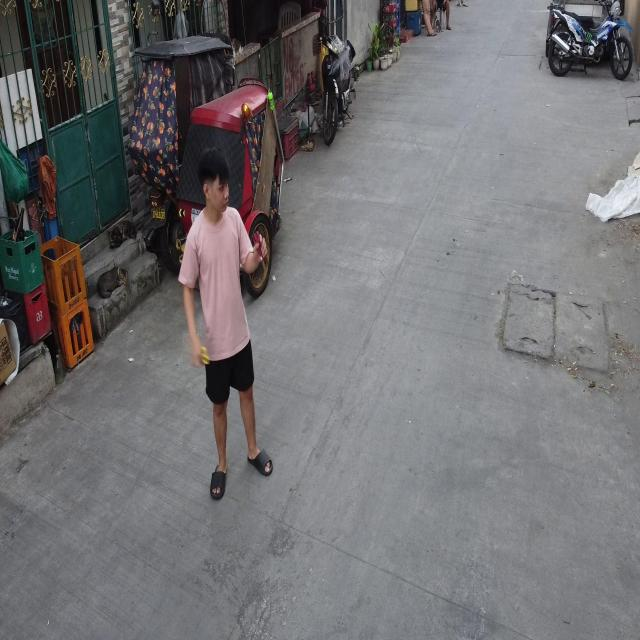scissor: (253, 231, 266, 271)
